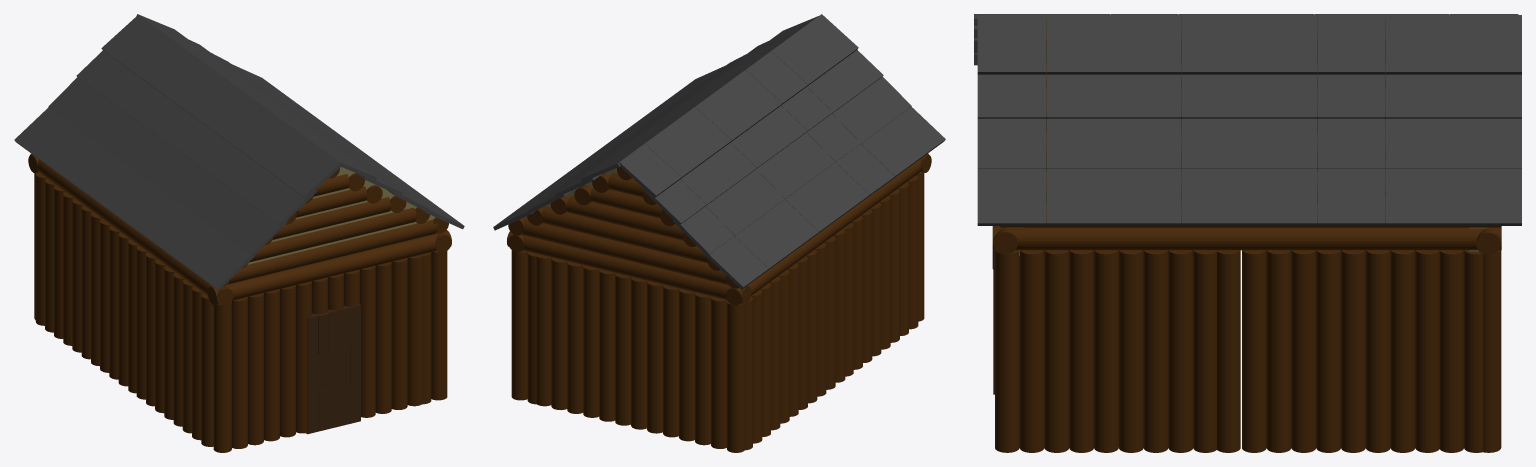
Rendered from Maisonfbx.fbx.
3 renders of one model, left to right at view 1: azimuth 30°, elevation 25°; view 2: azimuth 150°, elevation 25°; view 3: azimuth 270°, elevation 25°, orthographic. The views are drawn at different scales.
Parts seen in each view (by area): view 1: Maison; view 2: Maison; view 3: Maison.
Boxes of the visible parts, box(x1,y1,x2,y2) form: Maison: box(14, 14, 464, 452); Maison: box(493, 14, 945, 452); Maison: box(974, 14, 1521, 452).
Size of the model in its own units: 251 by 260 by 356.
